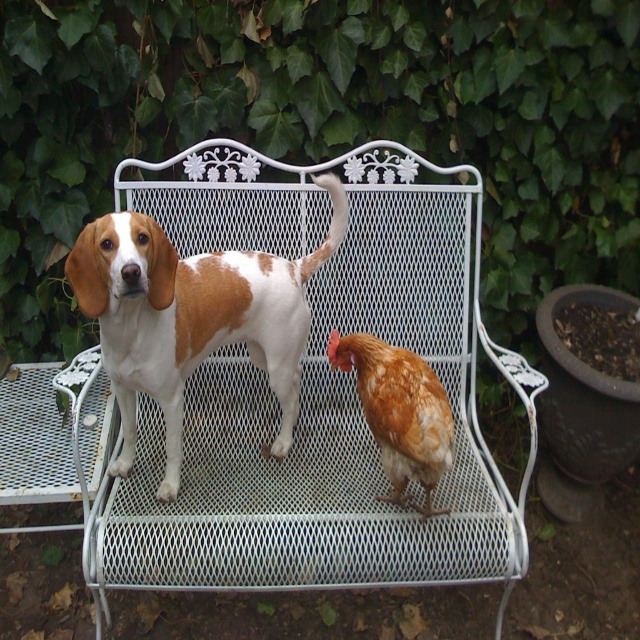Chicken: (65, 170, 349, 504), (322, 324, 454, 507)
